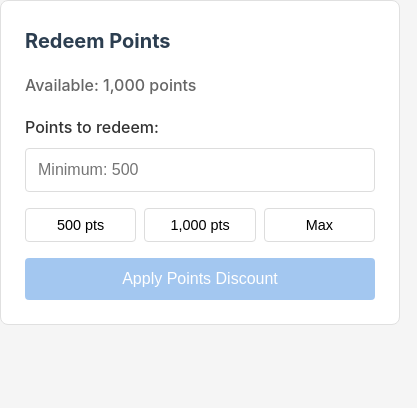
PointRedemptionForm › should clear discount when points are cleared
The image size is (417, 408).
In the number field labelled "Points to redeem:": (200, 170) x1=25 y1=148 x2=375 y2=192, type "500"
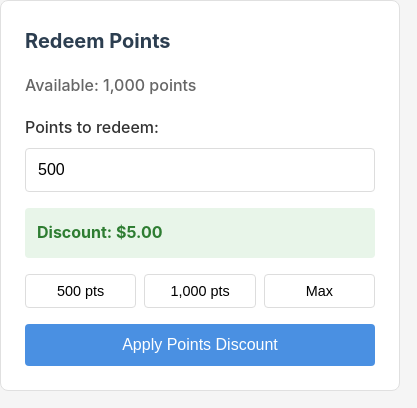
Expected: the text "Discount: $5.00" is shown, x1=25 y1=208 x2=375 y2=258
Clear the number field labelled "Points to redeem:": (200, 170) x1=25 y1=148 x2=375 y2=192
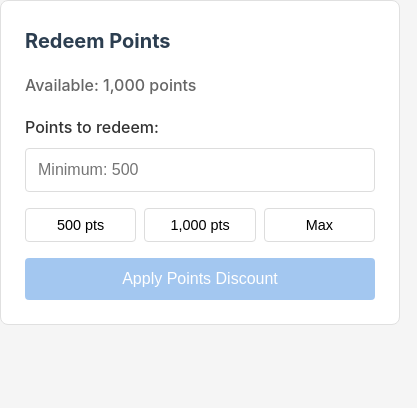
Expected: the text "Discount:" is gone
